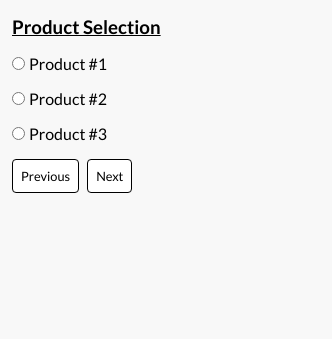
Test: successful backward step transitions › step two renders after step three
This screenshot has width=332, height=339.
Click the button "Previous" at (46, 176), box [12,159,79,193]
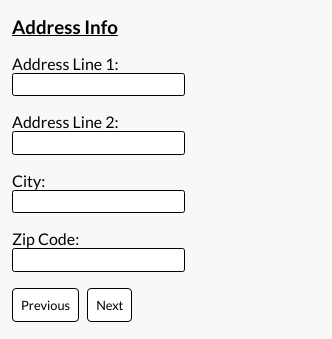
Result: the heading "Address Info" is shown at [12,16,118,38]
